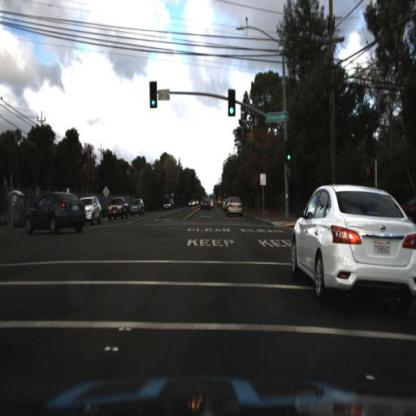car: (283, 178, 416, 312), (24, 192, 82, 236), (105, 191, 132, 224), (85, 194, 104, 223), (127, 194, 148, 219), (222, 199, 245, 221), (198, 196, 212, 212), (162, 197, 174, 212)
trafficLight: (147, 84, 158, 110)
trafficLight-Green: (226, 95, 237, 124), (280, 148, 294, 170)
